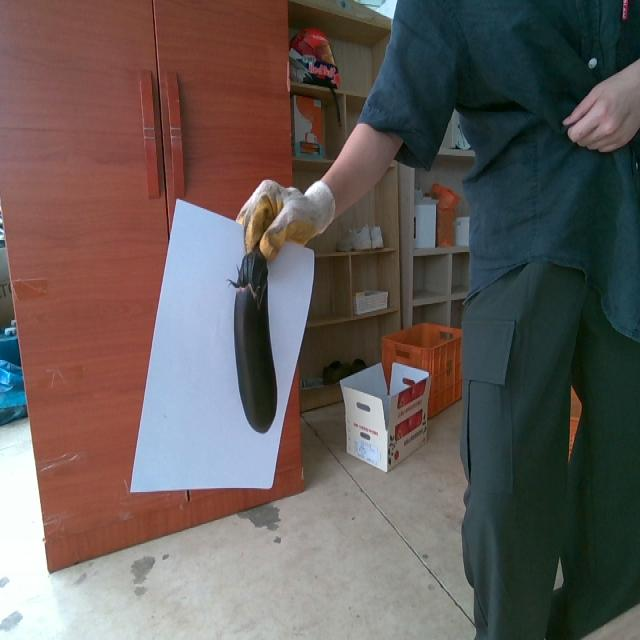Egg plant: (231, 248, 276, 432), (252, 271, 264, 303)
